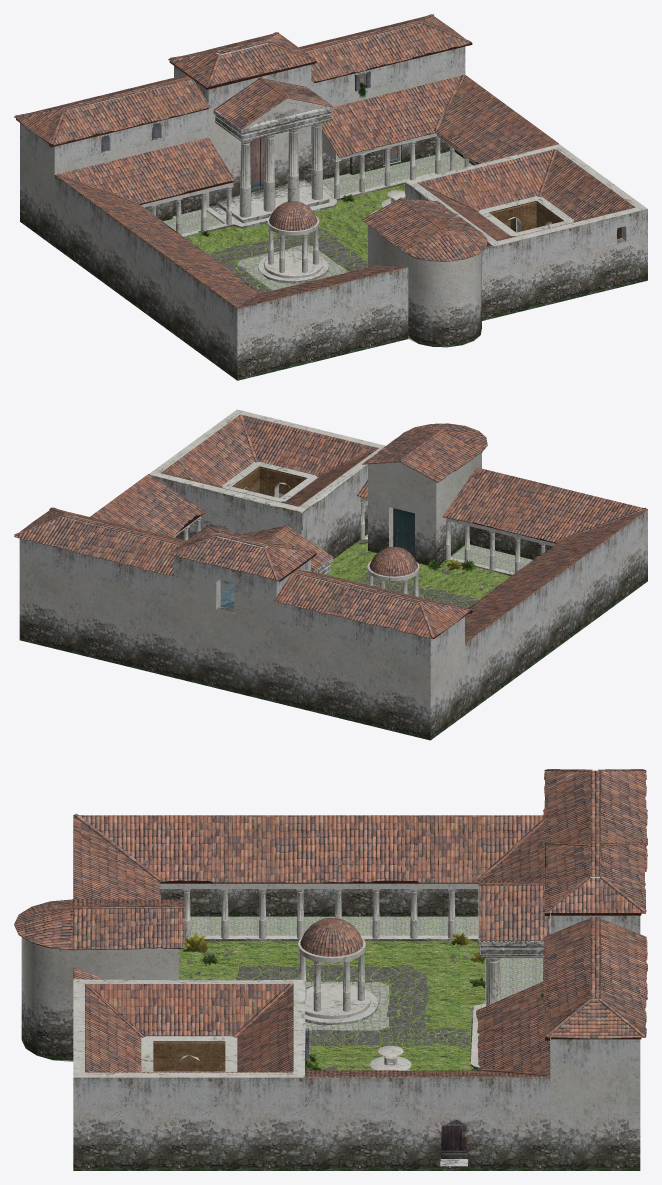
Rendered from domus.glb.
3 views of the same model, one above another, from view 1: azimuth 30°, elevation 25°; view 2: azimuth 150°, elevation 25°; view 3: azimuth 270°, elevation 25° (orthographic). The views are drawn at different scales.
Parts seen in each view (by area): view 1: Object037_Material #230_0, Object036_Material #230_0, peristilium-MuraW, peristilium-MuraS2, impluvium-EstS, vestibulum-Mura, alaEst-MuraS, giardino-Prato001, alaOvest-MuraS, giardino-Prato, atrium-MuraS, alaOvest-MuraW (+22 smaller); view 2: Object037_Material #230_0, Object036_Material #230_0, alaOvest-MuraN, alaEst-MuraN, peristilium-MuraW, atrium-MuraN, vestibulum-Mura, impluvium-EstN, impluvium-EstW, giardino-Prato, giardino-Prato001, alaOvest-MuraW (+13 smaller); view 3: Object036_Material #230_0, Object037_Material #230_0, peristilium-MuraE, impluvium-EstE, giardino-Prato001, giardino-Prato, alaEst-MuraW, vestibulum-Mura, peristilium-MuraW, giardino-Viale, peristilium-Pavimento, impluvium-EstN (+19 smaller).
Part boxes in pixels (x1,y1,x2,y2): Object037_Material #230_0: (31,15,634,308); Object036_Material #230_0: (15,32,635,308); peristilium-MuraW: (54,176,237,380); peristilium-MuraS2: (237,267,408,380); impluvium-EstS: (489,205,647,317); vestibulum-Mura: (368,225,481,347); alaEst-MuraS: (311,46,465,179); giardino-Prato001: (163,152,471,289); alaOvest-MuraS: (51,109,208,246); giardino-Prato: (165,157,426,336); atrium-MuraS: (205,64,311,205); alaOvest-MuraW: (24,126,51,244); Object037_Material #230_0: (14,415,647,638); Object036_Material #230_0: (90,414,647,643); alaOvest-MuraN: (276,601,434,740); alaEst-MuraN: (19,538,173,677); peristilium-MuraW: (465,510,647,714); atrium-MuraN: (173,556,280,702); vestibulum-Mura: (368,453,481,565); impluvium-EstN: (149,471,306,538); impluvium-EstW: (299,448,381,559); giardino-Prato: (326,539,510,606); giardino-Prato001: (327,535,531,606); alaOvest-MuraW: (435,619,461,736); Object036_Material #230_0: (72,771,645,1077); Object037_Material #230_0: (73,770,647,1076); peristilium-MuraE: (305,1077,550,1170); impluvium-EstE: (85,1072,293,1170); giardino-Prato001: (179,916,543,1077); giardino-Prato: (179,941,485,1132); alaEst-MuraW: (558,1039,628,1170); vestibulum-Mura: (21,937,178,1061); peristilium-MuraW: (159,889,478,916); giardino-Viale: (179,946,469,1070); peristilium-Pavimento: (190,916,543,999); impluvium-EstN: (293,979,305,1170).
Bounding box in the file's own units: 24.62 × 8.31 × 24.59.
29 materials, 27 textured.
